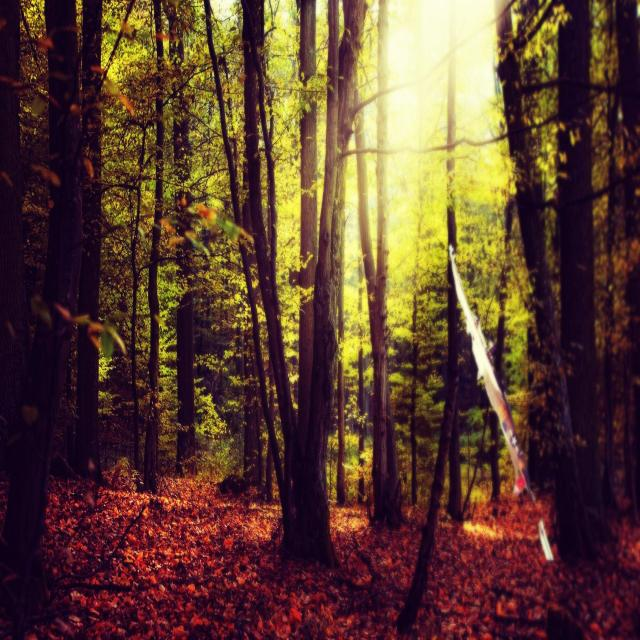airplane: (446, 243, 536, 502)
